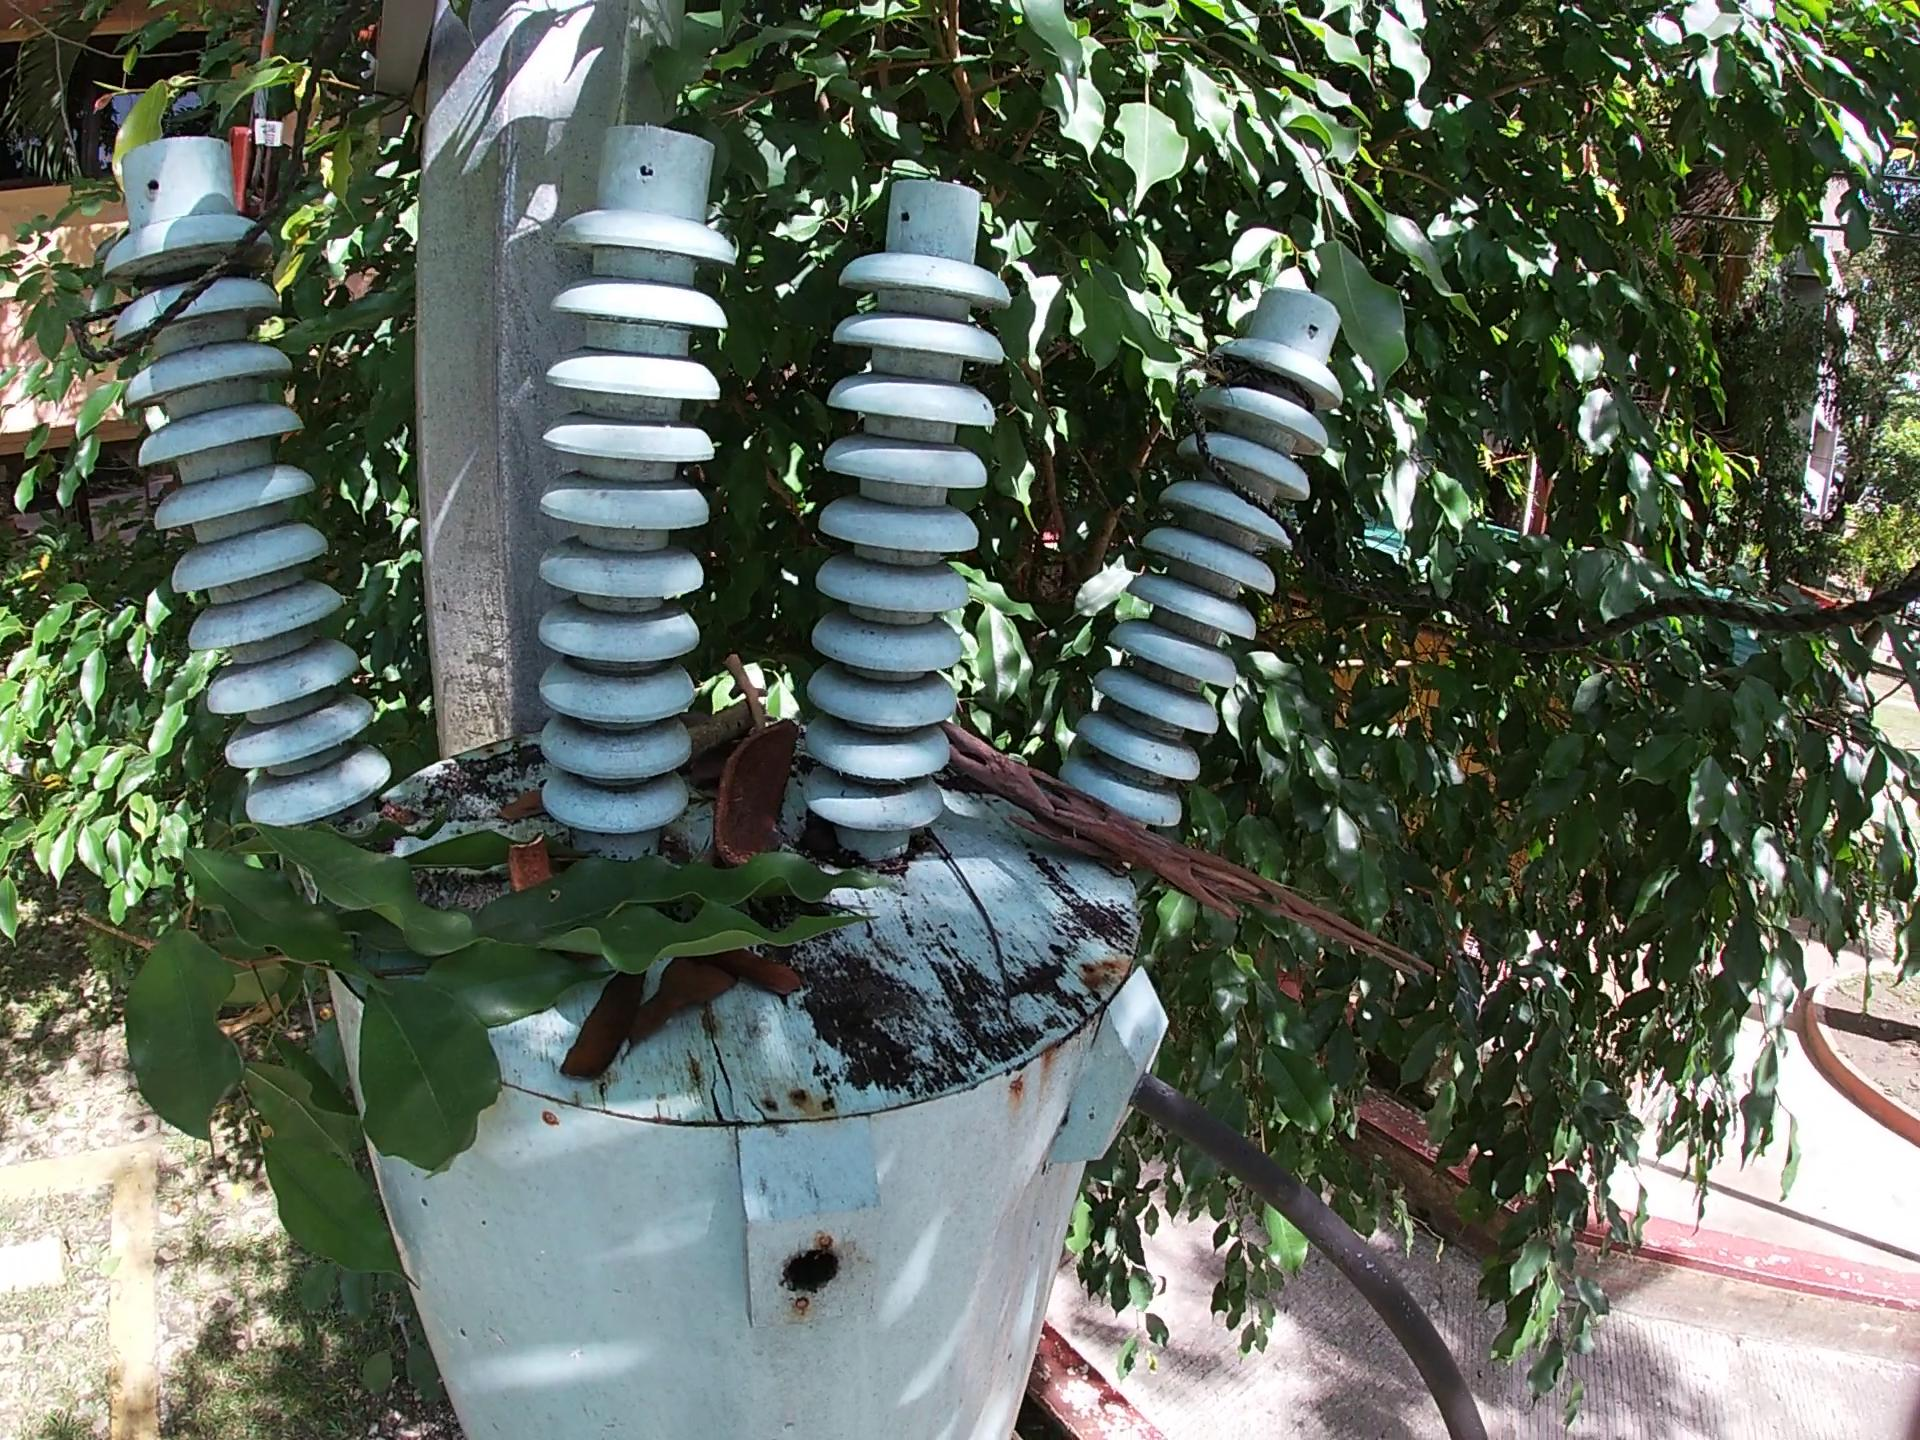branch with leaves: (112, 812, 912, 1292)
leaf: (620, 945, 742, 1059), (556, 961, 649, 1088), (691, 938, 813, 1004), (491, 784, 555, 826)
mahogany fruit: (708, 712, 798, 865), (502, 829, 562, 895)
tree branch: (934, 718, 1447, 985), (686, 699, 760, 768), (723, 650, 777, 734)
